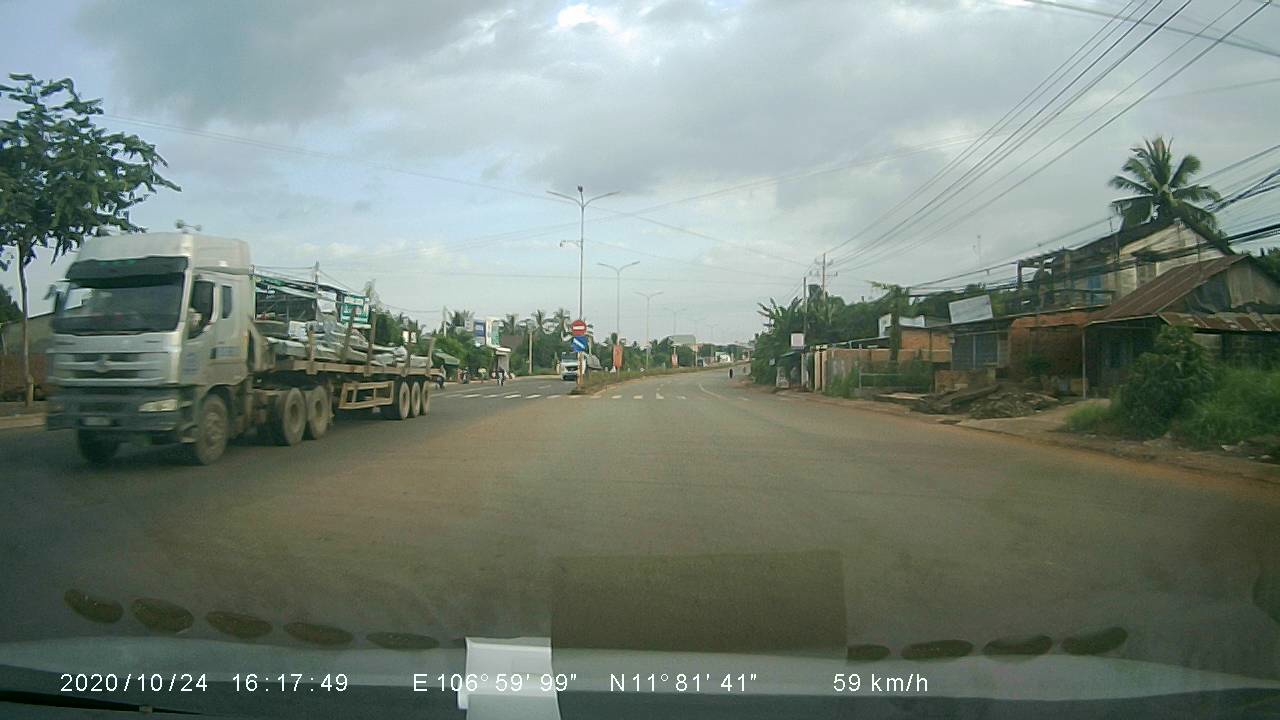Cam di nguoc chieu: (568, 319, 586, 337)
Huong di phai re phai: (570, 337, 587, 353)
